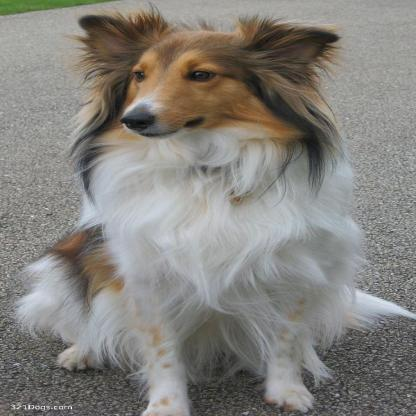Shetland_sheepdog: (20, 7, 414, 414)
